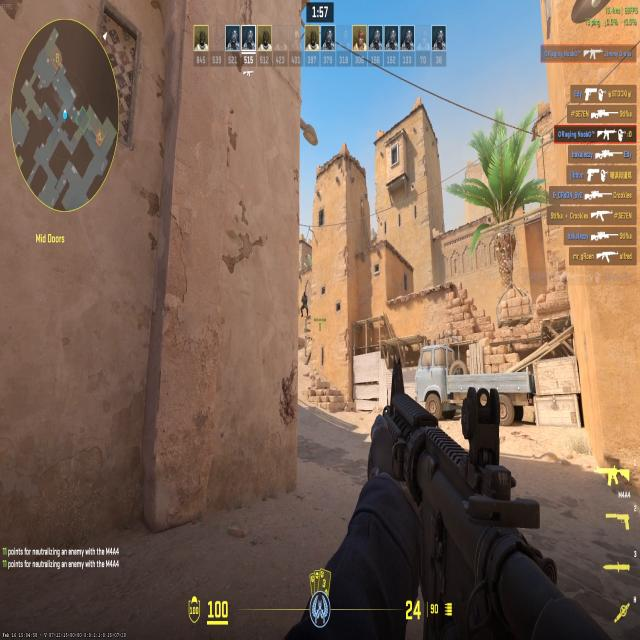player: (300, 292, 312, 318)
